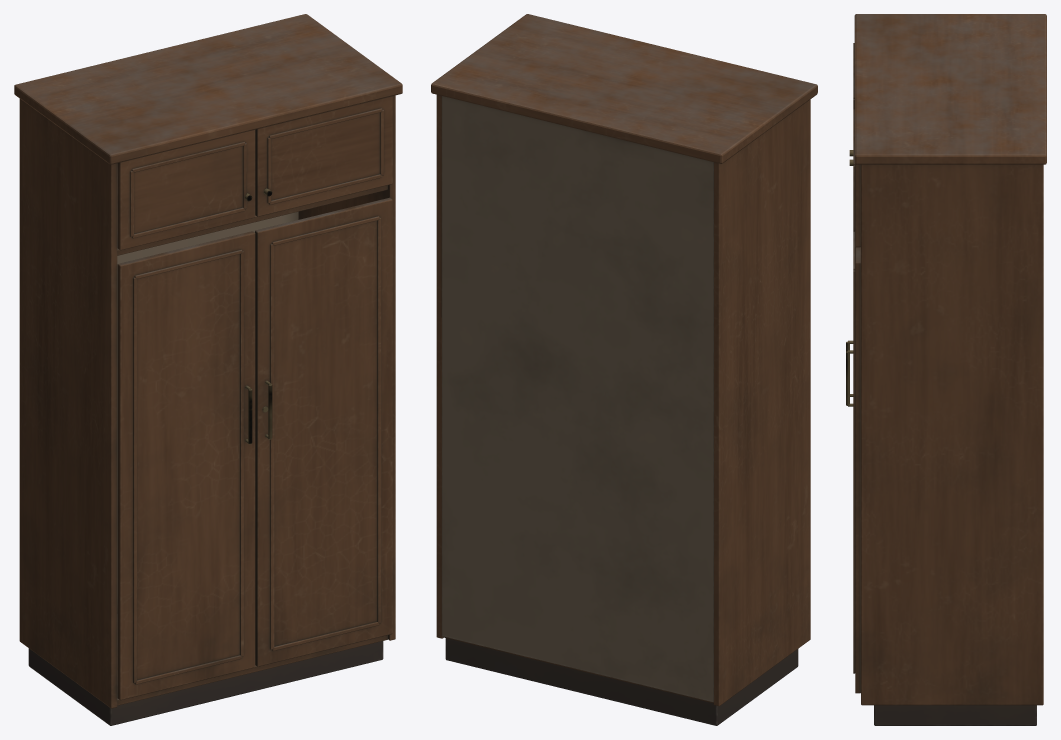
Rendered from Wardrobe.fbx.
3 renders of one model, left to right at view 1: azimuth 30°, elevation 25°; view 2: azimuth 150°, elevation 25°; view 3: azimuth 270°, elevation 25°, orthographic.
Visible parts, largest first — view 1: Wardrobe_Mesh; view 2: Wardrobe_Mesh; view 3: Wardrobe_Mesh.
Boxes of the visible parts, x1,y1,x2,y2 form: Wardrobe_Mesh: [14, 14, 402, 725]; Wardrobe_Mesh: [431, 14, 817, 725]; Wardrobe_Mesh: [846, 14, 1046, 725].
Size of the model in its own units: 1.03 by 1.95 by 0.616.
